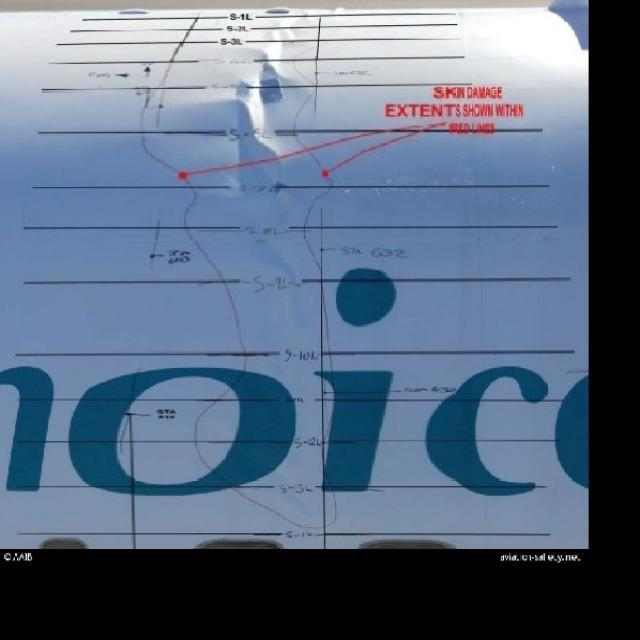dent: (207, 12, 320, 519)
